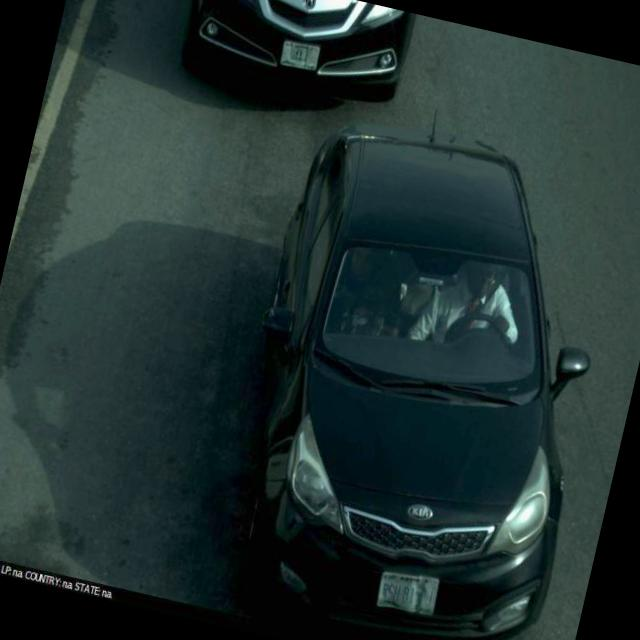person_with_seatbelt: (406, 242, 538, 390)
